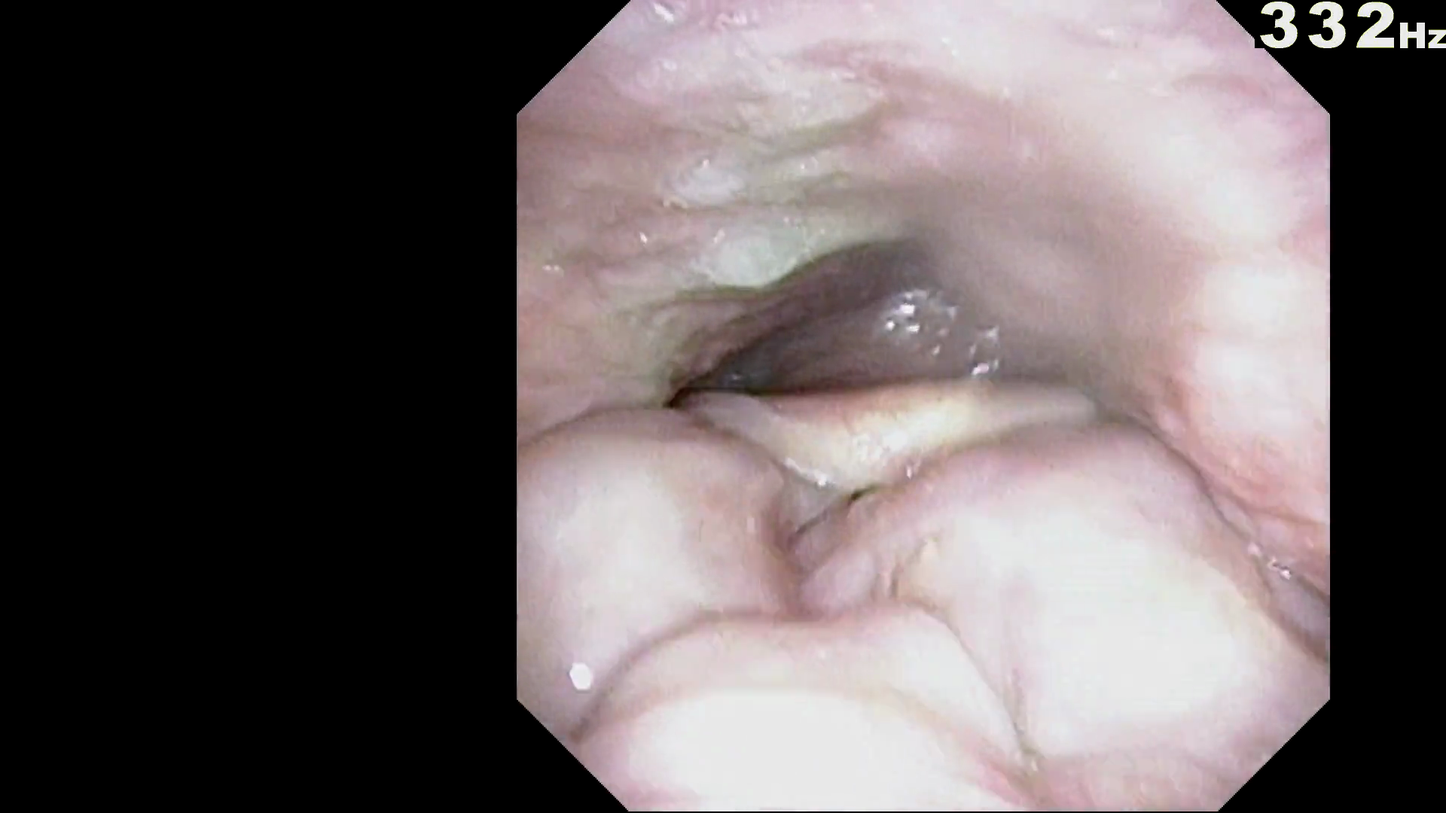epiglottis: (666, 377, 1093, 488)
trachea: (859, 417, 982, 514)
